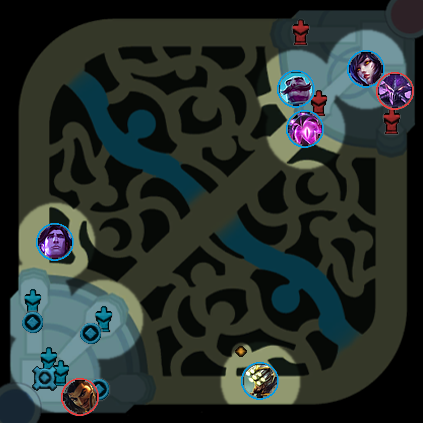Ahri: (347, 50, 385, 88)
Akshan: (61, 378, 99, 416)
Braum: (277, 70, 315, 108)
Kassadin: (376, 72, 414, 110)
MasterYi: (241, 362, 279, 400)
Taric: (36, 223, 74, 261)
Velkoz: (286, 110, 324, 148)
